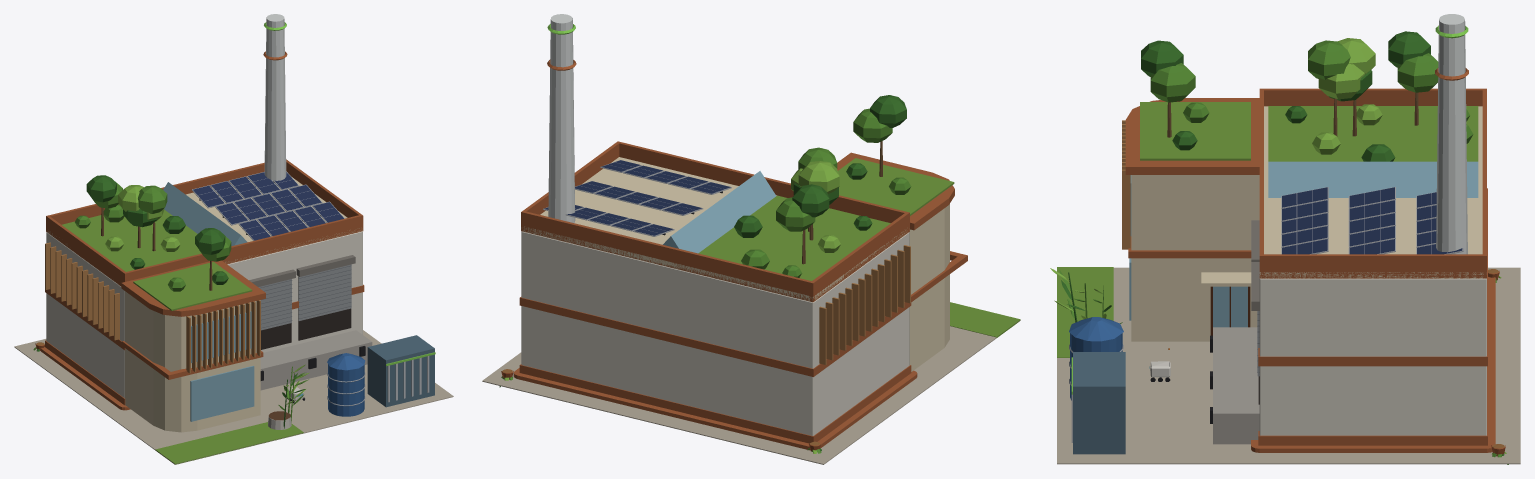
File: factory_3.glb
3 views of the same model, side by side, from view 1: azimuth 30°, elevation 25°; view 2: azimuth 150°, elevation 25°; view 3: azimuth 270°, elevation 25° (orthographic). The views are drawn at different scales.
Visible parts, largest first — view 1: body, windows; view 2: body; view 3: body.
Part boxes in pixels (left/top/right/bottom): body: left=14, top=14, right=453, bottom=464; windows: left=261, top=22, right=435, bottom=396; body: left=482, top=14, right=1020, bottom=464; body: left=1050, top=14, right=1520, bottom=464.
Size of the model in its own units: 15.9 by 16.05 by 16.16.
